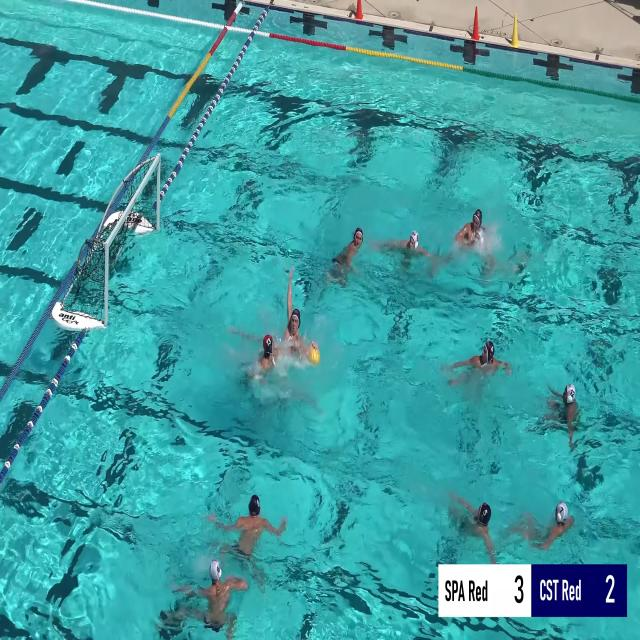ball: (309, 348, 320, 364)
